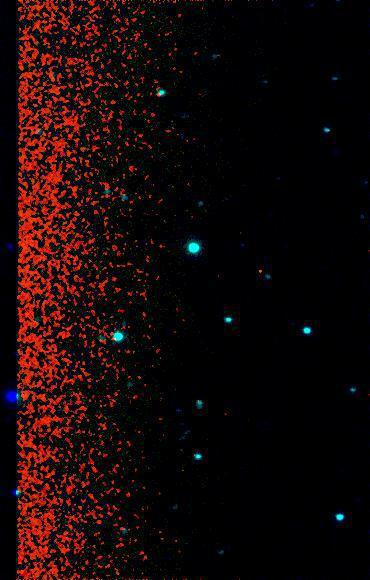star: (247, 255, 277, 285)
